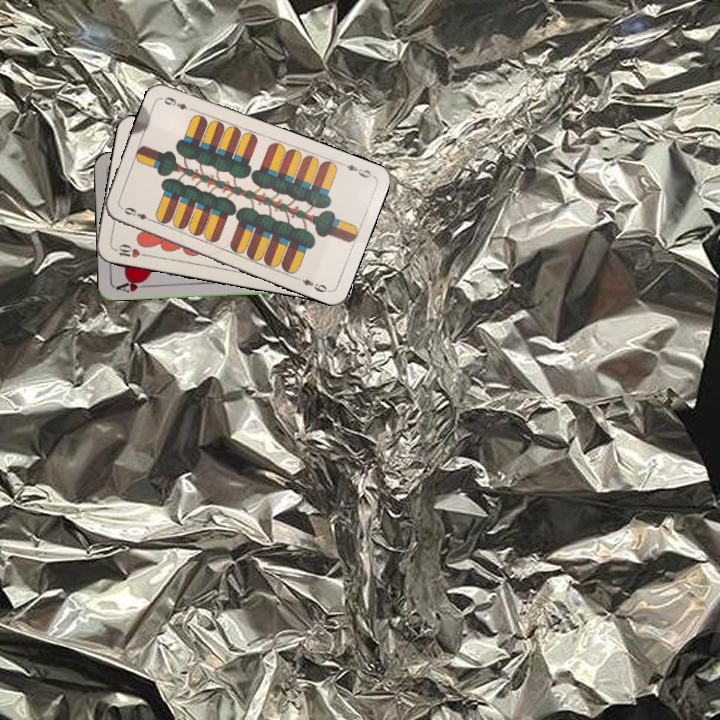E9: (337, 158, 376, 181), (118, 203, 156, 225)
H10: (110, 240, 150, 260)
HA: (112, 275, 153, 295)
